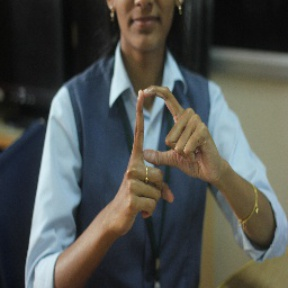D: (127, 80, 204, 185)
